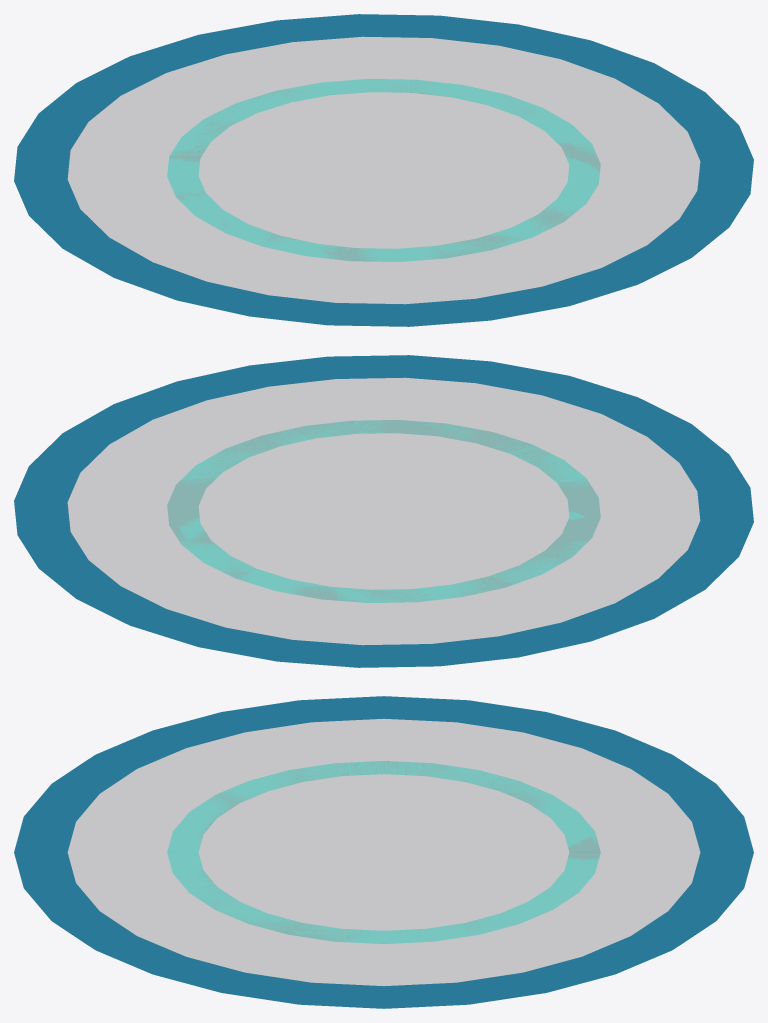
File: 狂暴圈完整.FBX
3 renders of one model, top to bottom at view 1: azimuth 30°, elevation 25°; view 2: azimuth 150°, elevation 25°; view 3: azimuth 270°, elevation 25°, orthographic.
Parts seen in each view (by area): view 1: Circle001, 对象002, 对象001; view 2: Circle001, 对象002, 对象001; view 3: Circle001, 对象002, 对象001.
Boxes of the visible parts, bbox=[...] form: Circle001: bbox=[67, 36, 700, 304]; 对象002: bbox=[14, 14, 753, 326]; 对象001: bbox=[167, 79, 600, 261]; Circle001: bbox=[67, 377, 700, 645]; 对象002: bbox=[14, 355, 753, 667]; 对象001: bbox=[167, 420, 600, 602]; Circle001: bbox=[67, 718, 700, 985]; 对象002: bbox=[14, 696, 753, 1008]; 对象001: bbox=[167, 761, 600, 943].
Size of the model in its own units: 101 by 6.2e-15 by 101.
